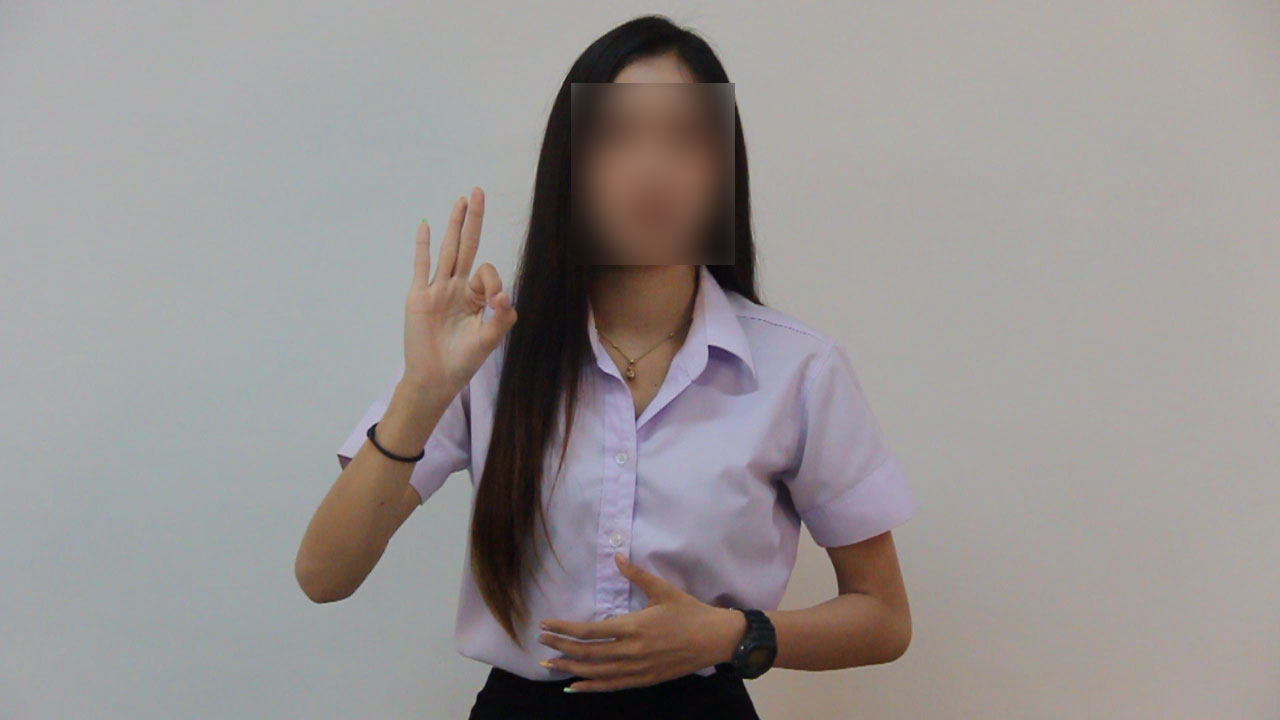for: (379, 171, 525, 402)
